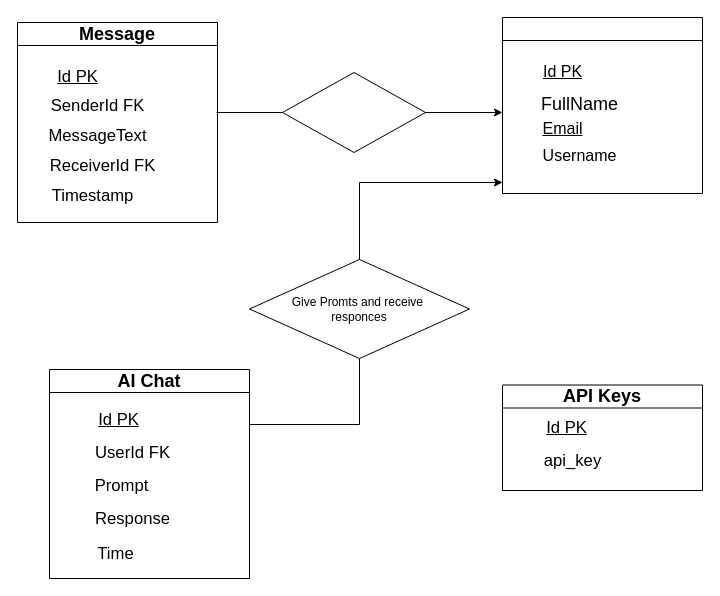
This 720x596 diagram has some shape labels left out. The shapes that lost their labels are listed below. From the top down, each one's box as (x1, y1, x2, y2) in pixels, then its label:
(282, 72, 426, 152): send and received
(502, 16, 702, 194): Users
